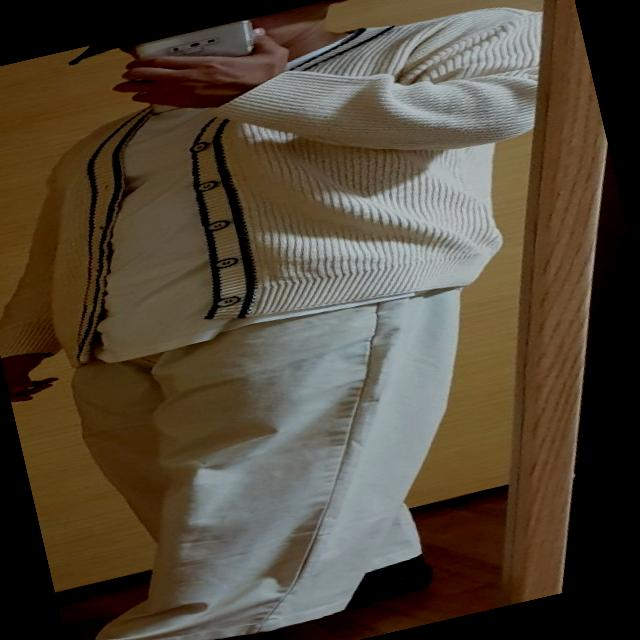cardigan: (0, 0, 603, 397)
cottonpants: (37, 259, 535, 640)
